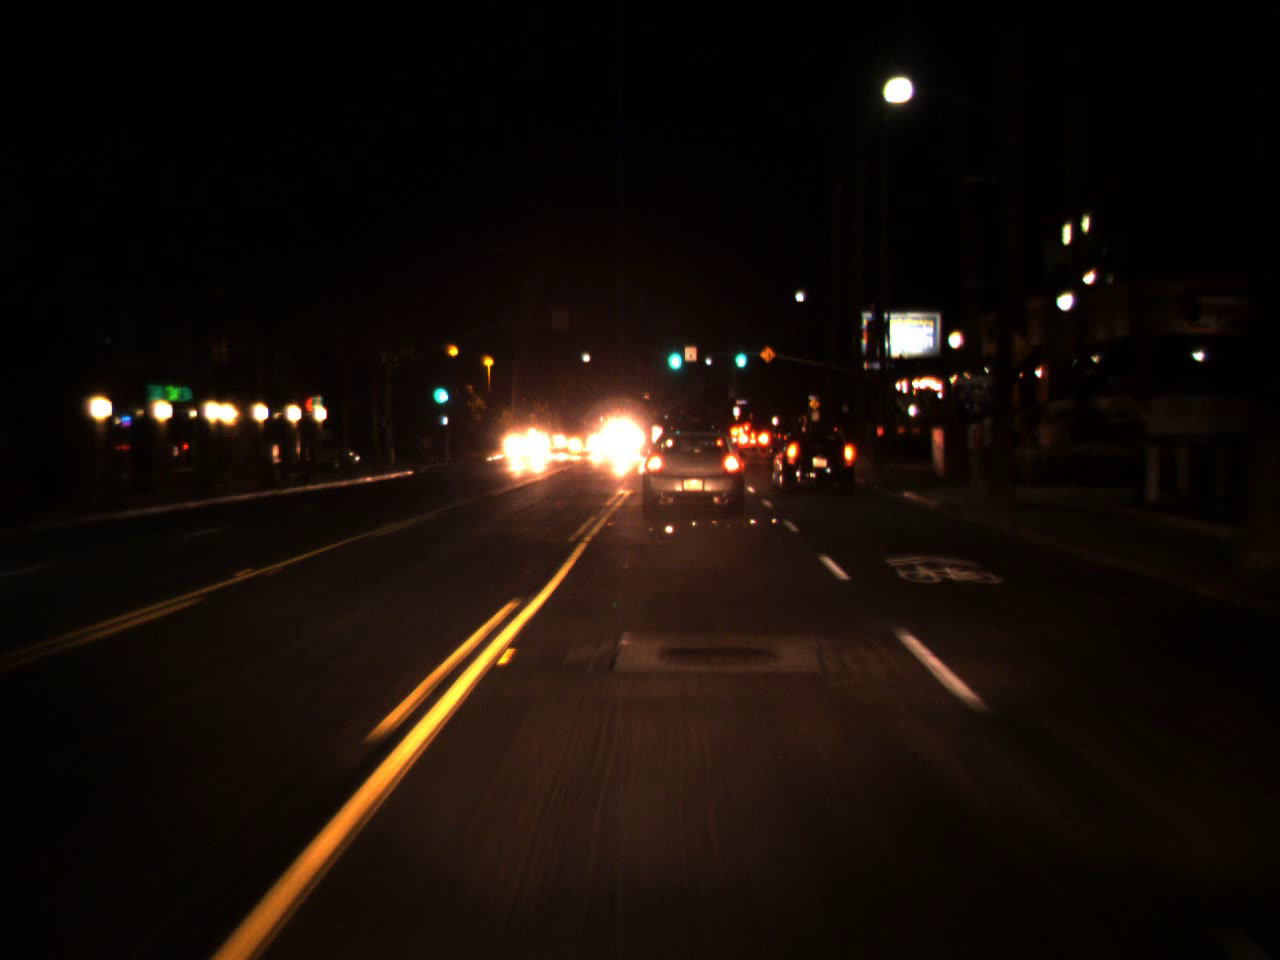go: (663, 331, 684, 376), (428, 369, 447, 408), (731, 339, 749, 369)
